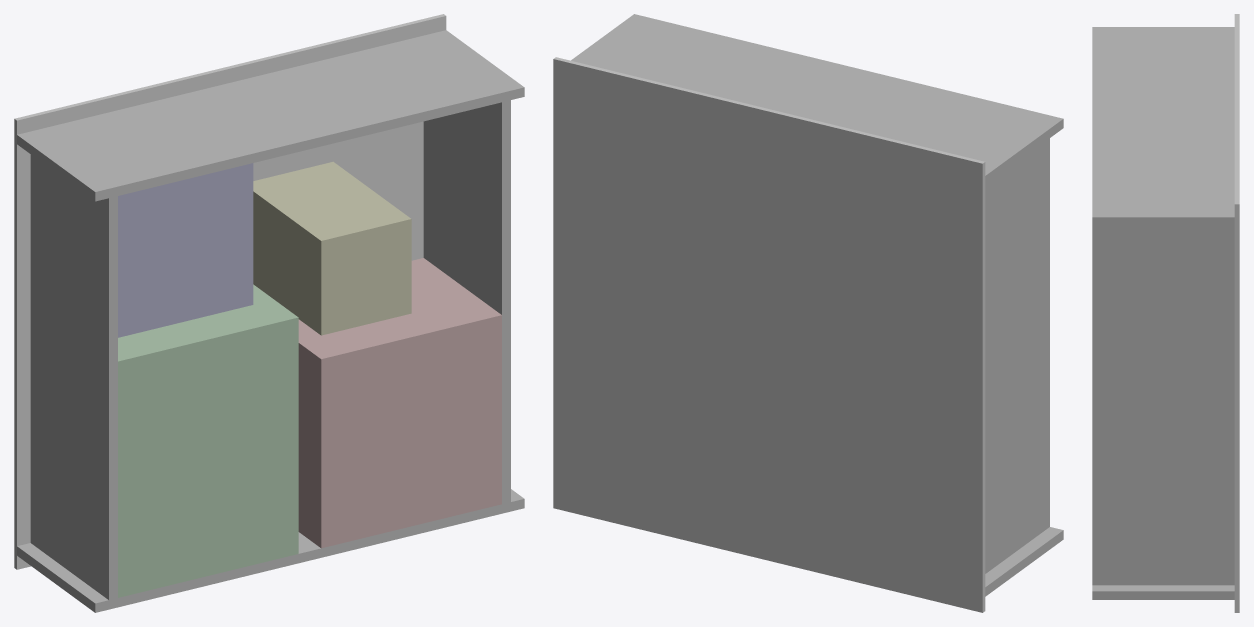
The model's file is house_20251101_064102.glb.
The picture shows the model from 3 angles, left to right: view 1: azimuth 30°, elevation 25°; view 2: azimuth 150°, elevation 25°; view 3: azimuth 270°, elevation 25°; orthographic projection. The views are drawn at different scales.
Visible parts, largest first — view 1: Living Room, Bedroom, Wall_South, Wall_East, Floor, Bathroom, Kitchen, Wall_West, Wall_North; view 2: Floor, Wall_South, Wall_East, Wall_North; view 3: Wall_West, Wall_South, Floor, Wall_North.
Boxes of the visible parts, x1,y1,x2,y2 form: Living Room: (118, 284, 298, 597); Bedroom: (298, 258, 501, 548); Wall_South: (17, 30, 524, 201); Wall_East: (30, 154, 117, 599); Floor: (14, 14, 446, 569); Bathroom: (253, 161, 411, 335); Kitchen: (118, 163, 253, 337); Wall_West: (423, 100, 510, 504); Wall_North: (17, 489, 524, 612); Floor: (553, 57, 985, 612); Wall_South: (571, 14, 1063, 184); Wall_East: (985, 138, 1049, 573); Wall_North: (985, 527, 1063, 596); Wall_West: (1092, 226, 1234, 585); Wall_South: (1092, 27, 1234, 225); Floor: (1234, 14, 1239, 612); Wall_North: (1092, 585, 1234, 599).
Bounding box in the file's own units: 9.5 × 9.5 × 3.1.
